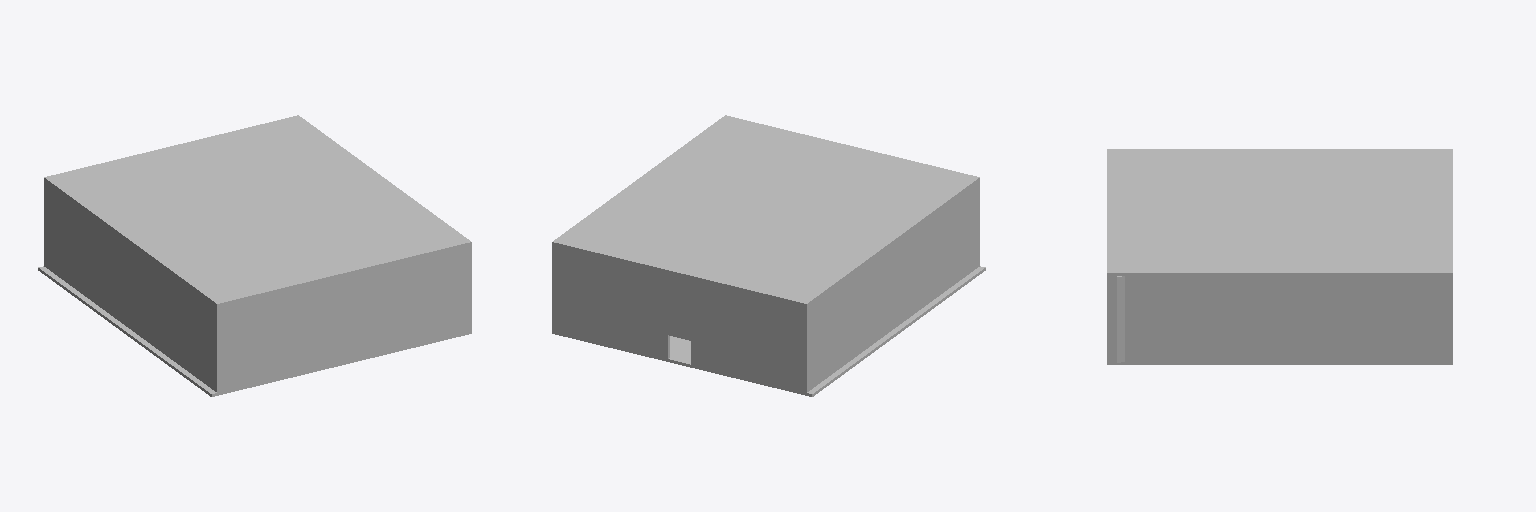
3 views of the same model, side by side, from view 1: azimuth 30°, elevation 25°; view 2: azimuth 150°, elevation 25°; view 3: azimuth 270°, elevation 25° (orthographic).
Parts seen in each view (by area): view 1: entity0_brush6, entity0_brush5, entity0_brush3, entity0_brush173, entity0_brush180; view 2: entity0_brush6, entity0_brush3, entity0_brush1, entity0_brush0, entity0_brush2, entity0_brush173, entity0_brush180; view 3: entity0_brush6, entity0_brush4, entity0_brush12.
Part boxes in pixels (bbox=[...]): entity0_brush6: bbox=[44, 115, 471, 306]; entity0_brush5: bbox=[216, 245, 471, 395]; entity0_brush3: bbox=[44, 181, 215, 391]; entity0_brush173: bbox=[43, 270, 118, 327]; entity0_brush180: bbox=[117, 321, 183, 371]; entity0_brush6: bbox=[552, 115, 979, 306]; entity0_brush3: bbox=[804, 182, 977, 395]; entity0_brush1: bbox=[691, 279, 803, 394]; entity0_brush0: bbox=[555, 246, 669, 361]; entity0_brush2: bbox=[668, 273, 690, 340]; entity0_brush173: bbox=[812, 337, 890, 393]; entity0_brush180: bbox=[883, 290, 951, 338]; entity0_brush6: bbox=[1107, 149, 1452, 275]; entity0_brush4: bbox=[1110, 276, 1452, 364]; entity0_brush12: bbox=[1117, 276, 1124, 362].
Size of the model in its own units: 1482 by 496 by 1696.